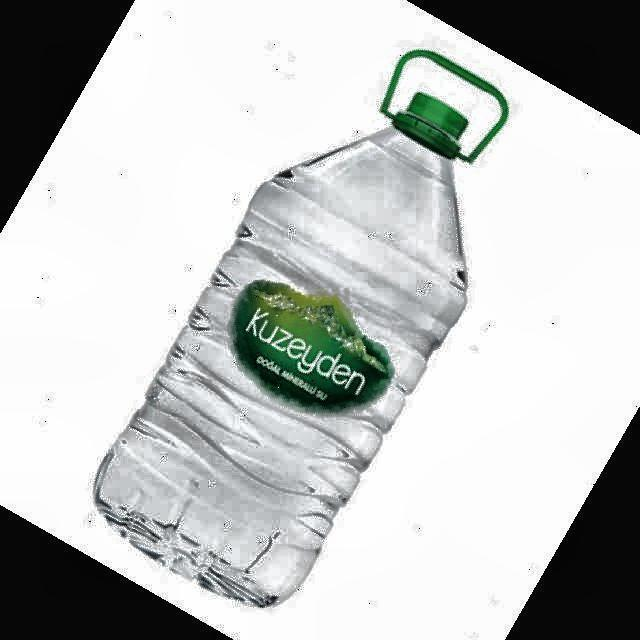plastic: (95, 53, 508, 606)
